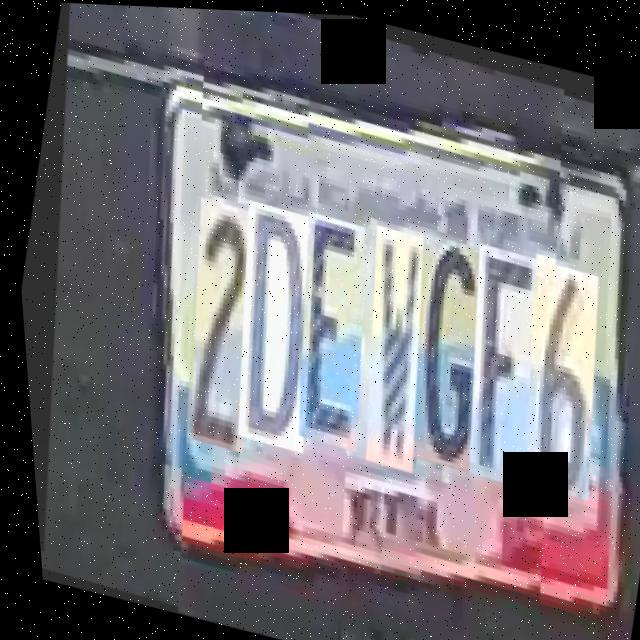2: (143, 192, 277, 449)
6: (482, 243, 620, 486)
D: (194, 195, 337, 448)
E: (257, 204, 389, 446)
F: (424, 233, 558, 481)
G: (369, 224, 508, 467)
W: (321, 217, 446, 467)
